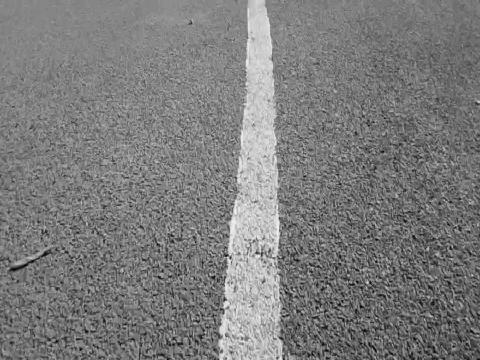Lines: (219, 0, 283, 360)
